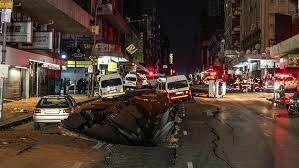Pothole: (48, 86, 188, 166)
